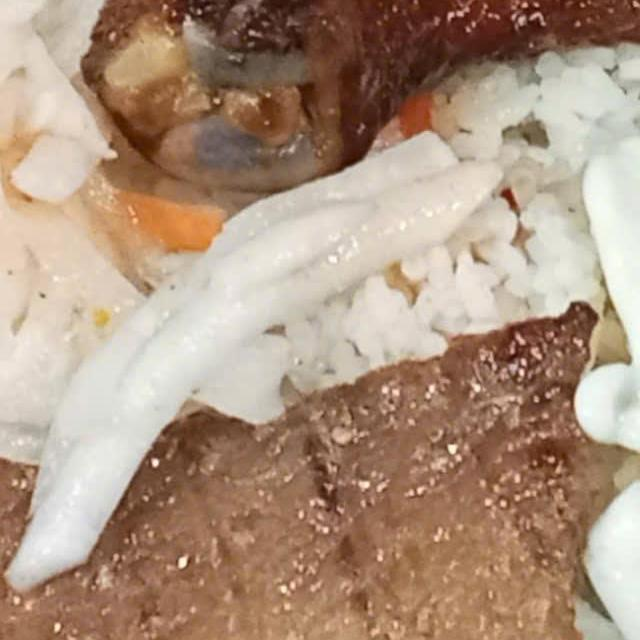com: (268, 19, 640, 437)
dua chua: (0, 119, 522, 596), (0, 0, 248, 454)
suon: (0, 285, 640, 640)
thit ga: (70, 0, 640, 209)
